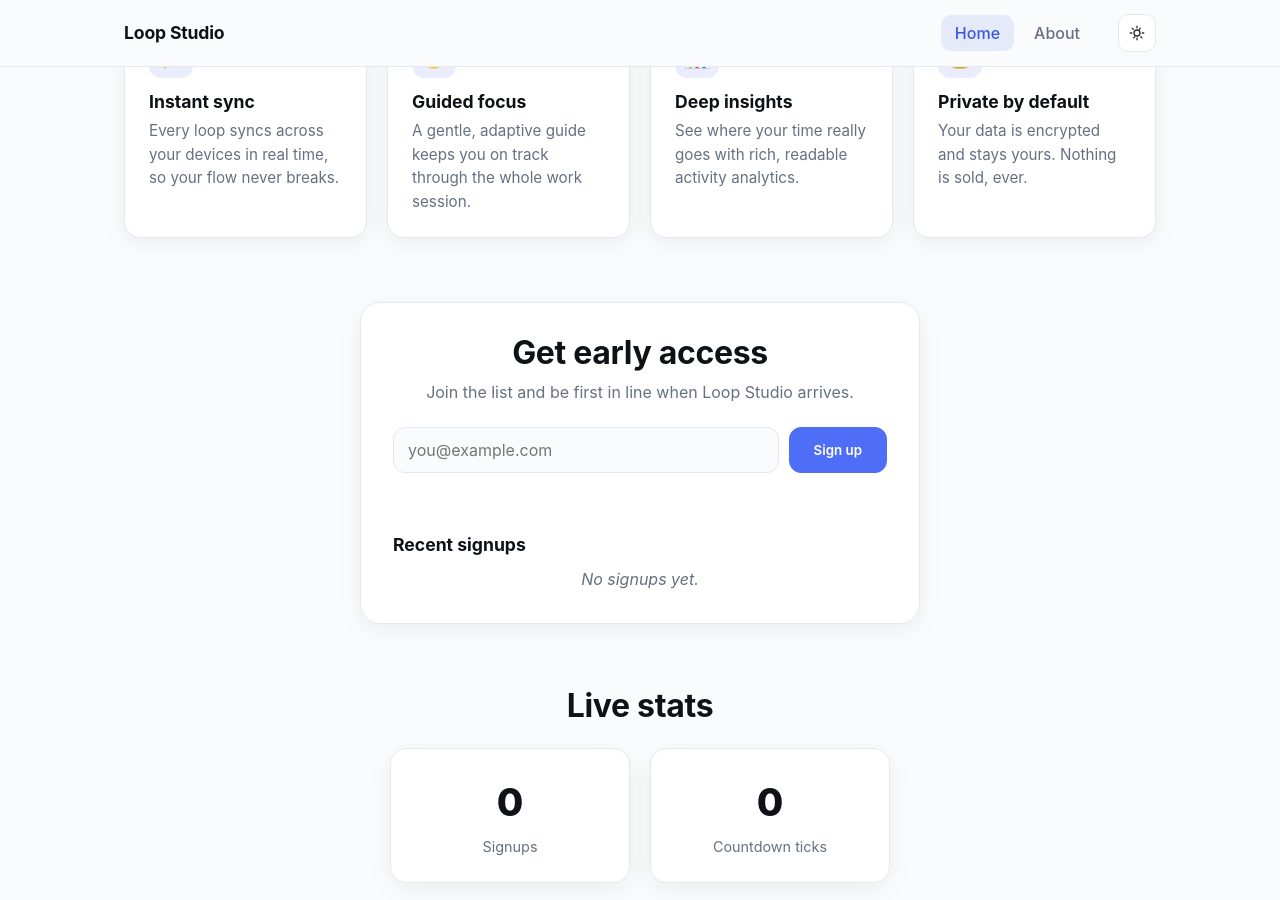
App › adds a valid email to recent signups and updates stats
(page scrolled)
Type "hello@example.com" into the field named "email" at (586, 450), box [393, 427, 778, 473]
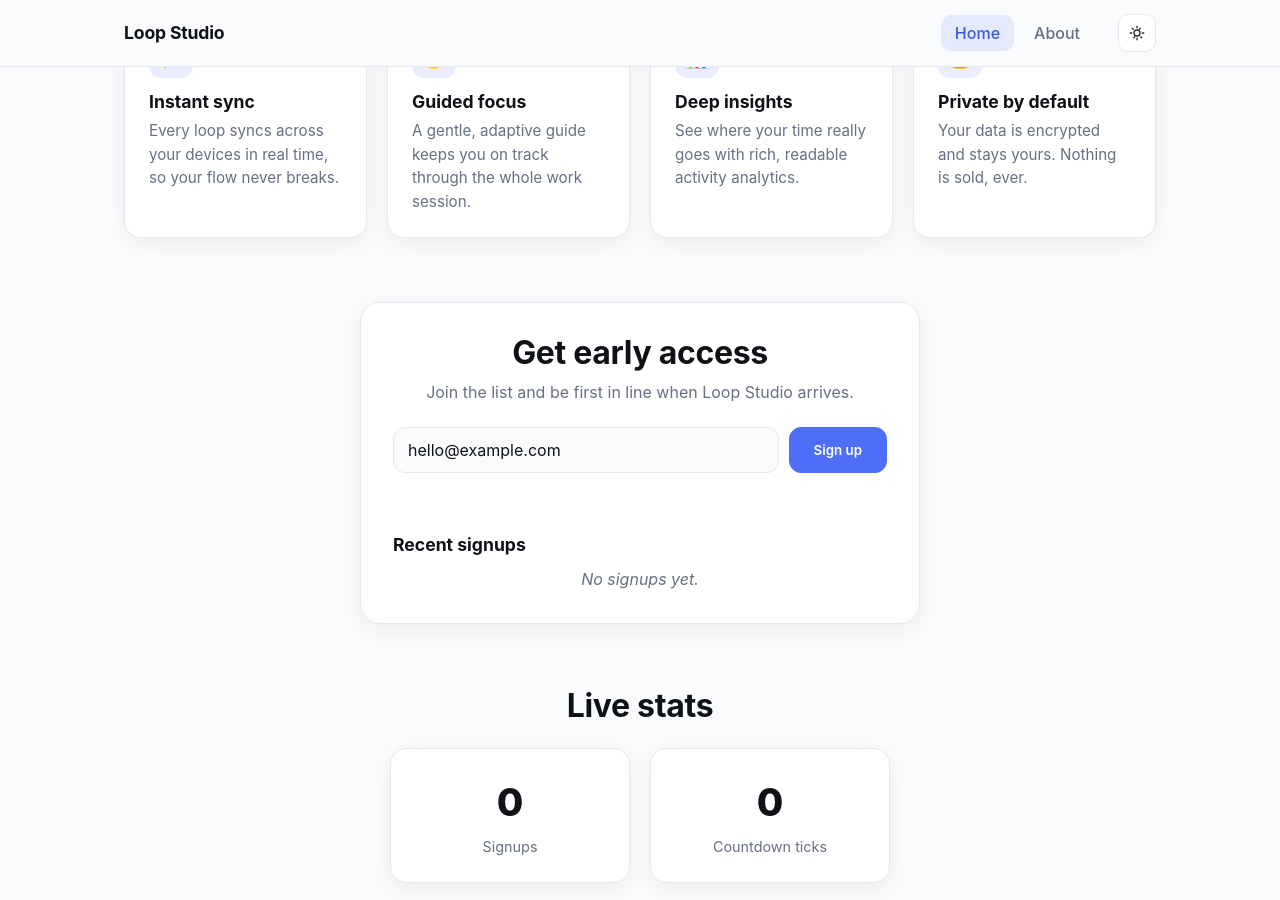
Submit the form named "get early access", box [393, 427, 887, 473]
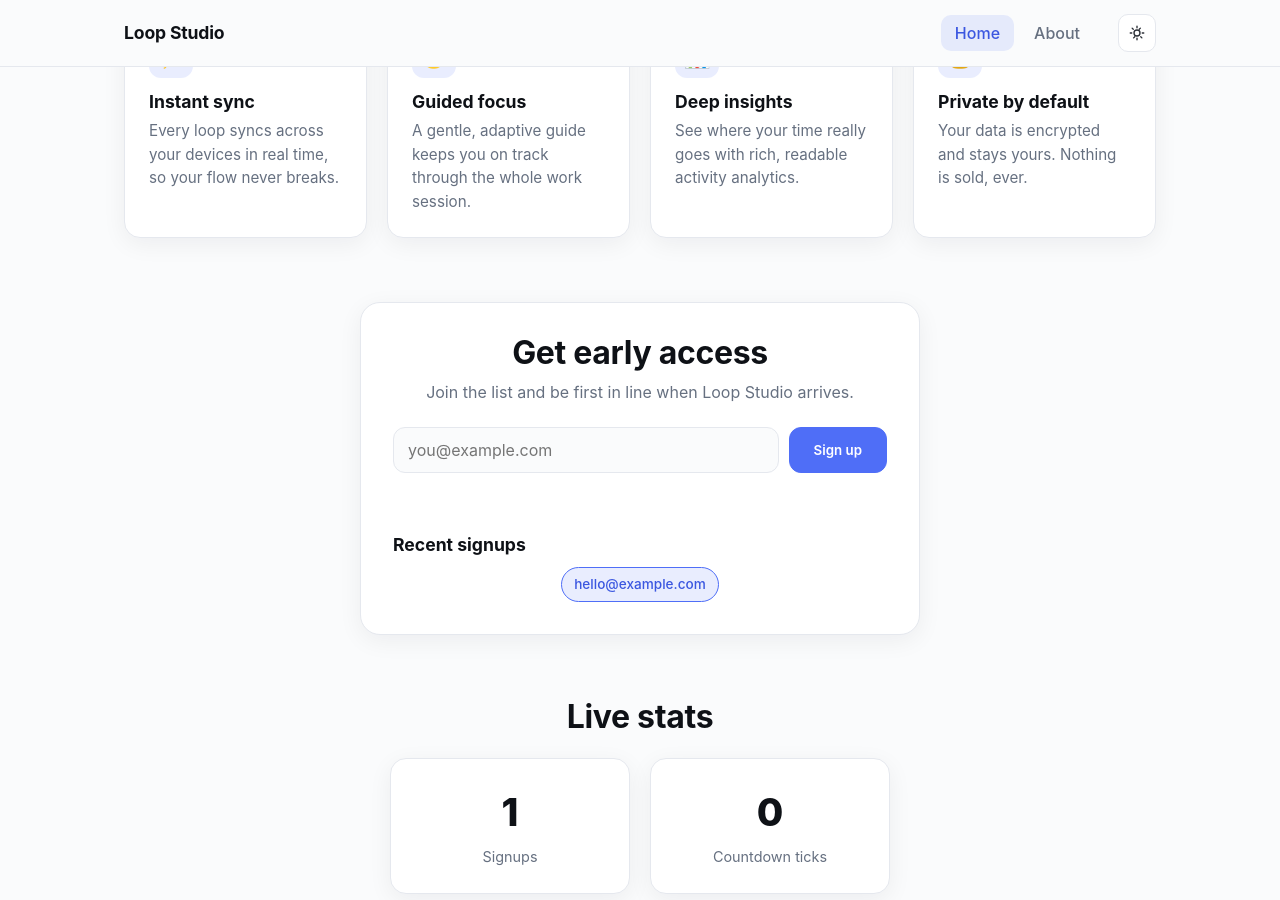
Now the list item "hello@example.com" is shown, box [561, 566, 719, 602]
Now the text with id "stat-signups" reads "1", box [502, 789, 518, 835]
